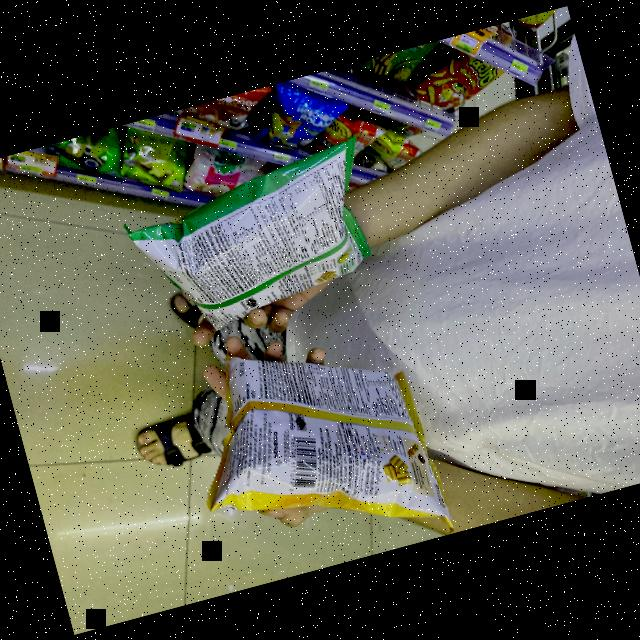snack_bag: (168, 318, 457, 584), (124, 125, 389, 348)
